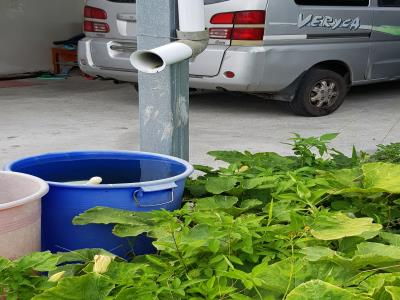bucket: (4, 147, 198, 260)
